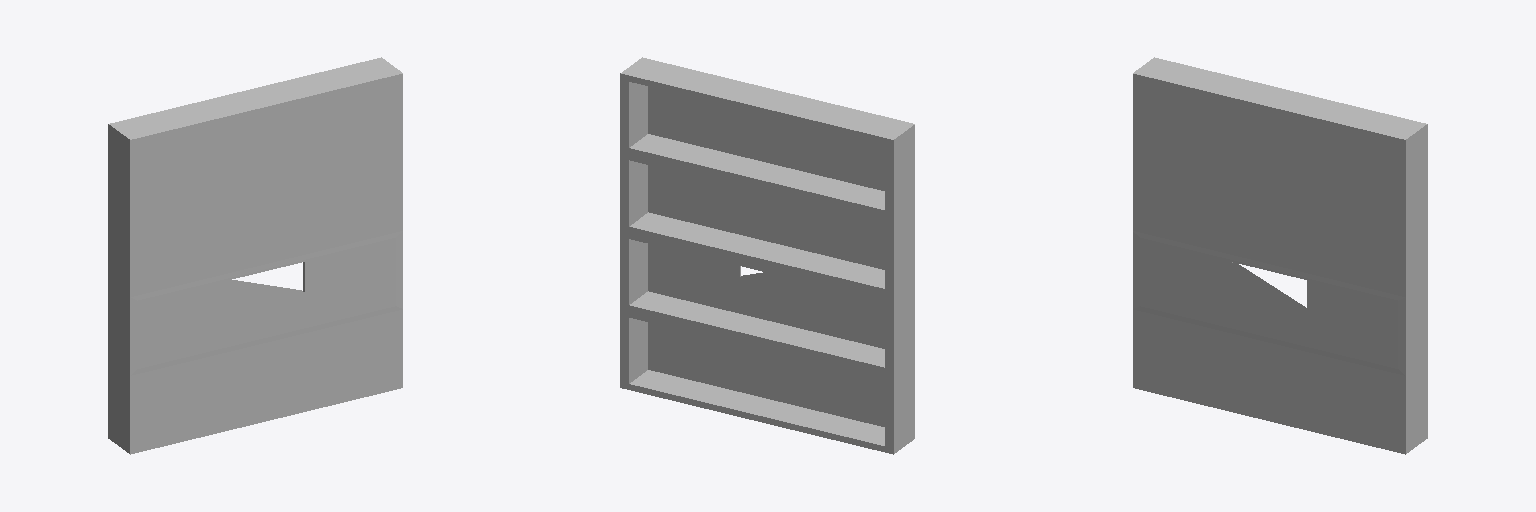
File: Bookshelf 3.obj
3 renders of one model, left to right at view 1: azimuth 30°, elevation 25°; view 2: azimuth 150°, elevation 25°; view 3: azimuth 330°, elevation 25°, orthographic.
Parts seen in each view (by area): view 1: BookShelf_Cube.002; view 2: BookShelf_Cube.002; view 3: BookShelf_Cube.002.
Boxes of the visible parts, x1=… form: BookShelf_Cube.002: x1=108, y1=57, x2=402, y2=454; BookShelf_Cube.002: x1=620, y1=57, x2=914, y2=454; BookShelf_Cube.002: x1=1133, y1=57, x2=1427, y2=454.
Bounding box in the file's own units: 7.2 × 7.93 × 1.